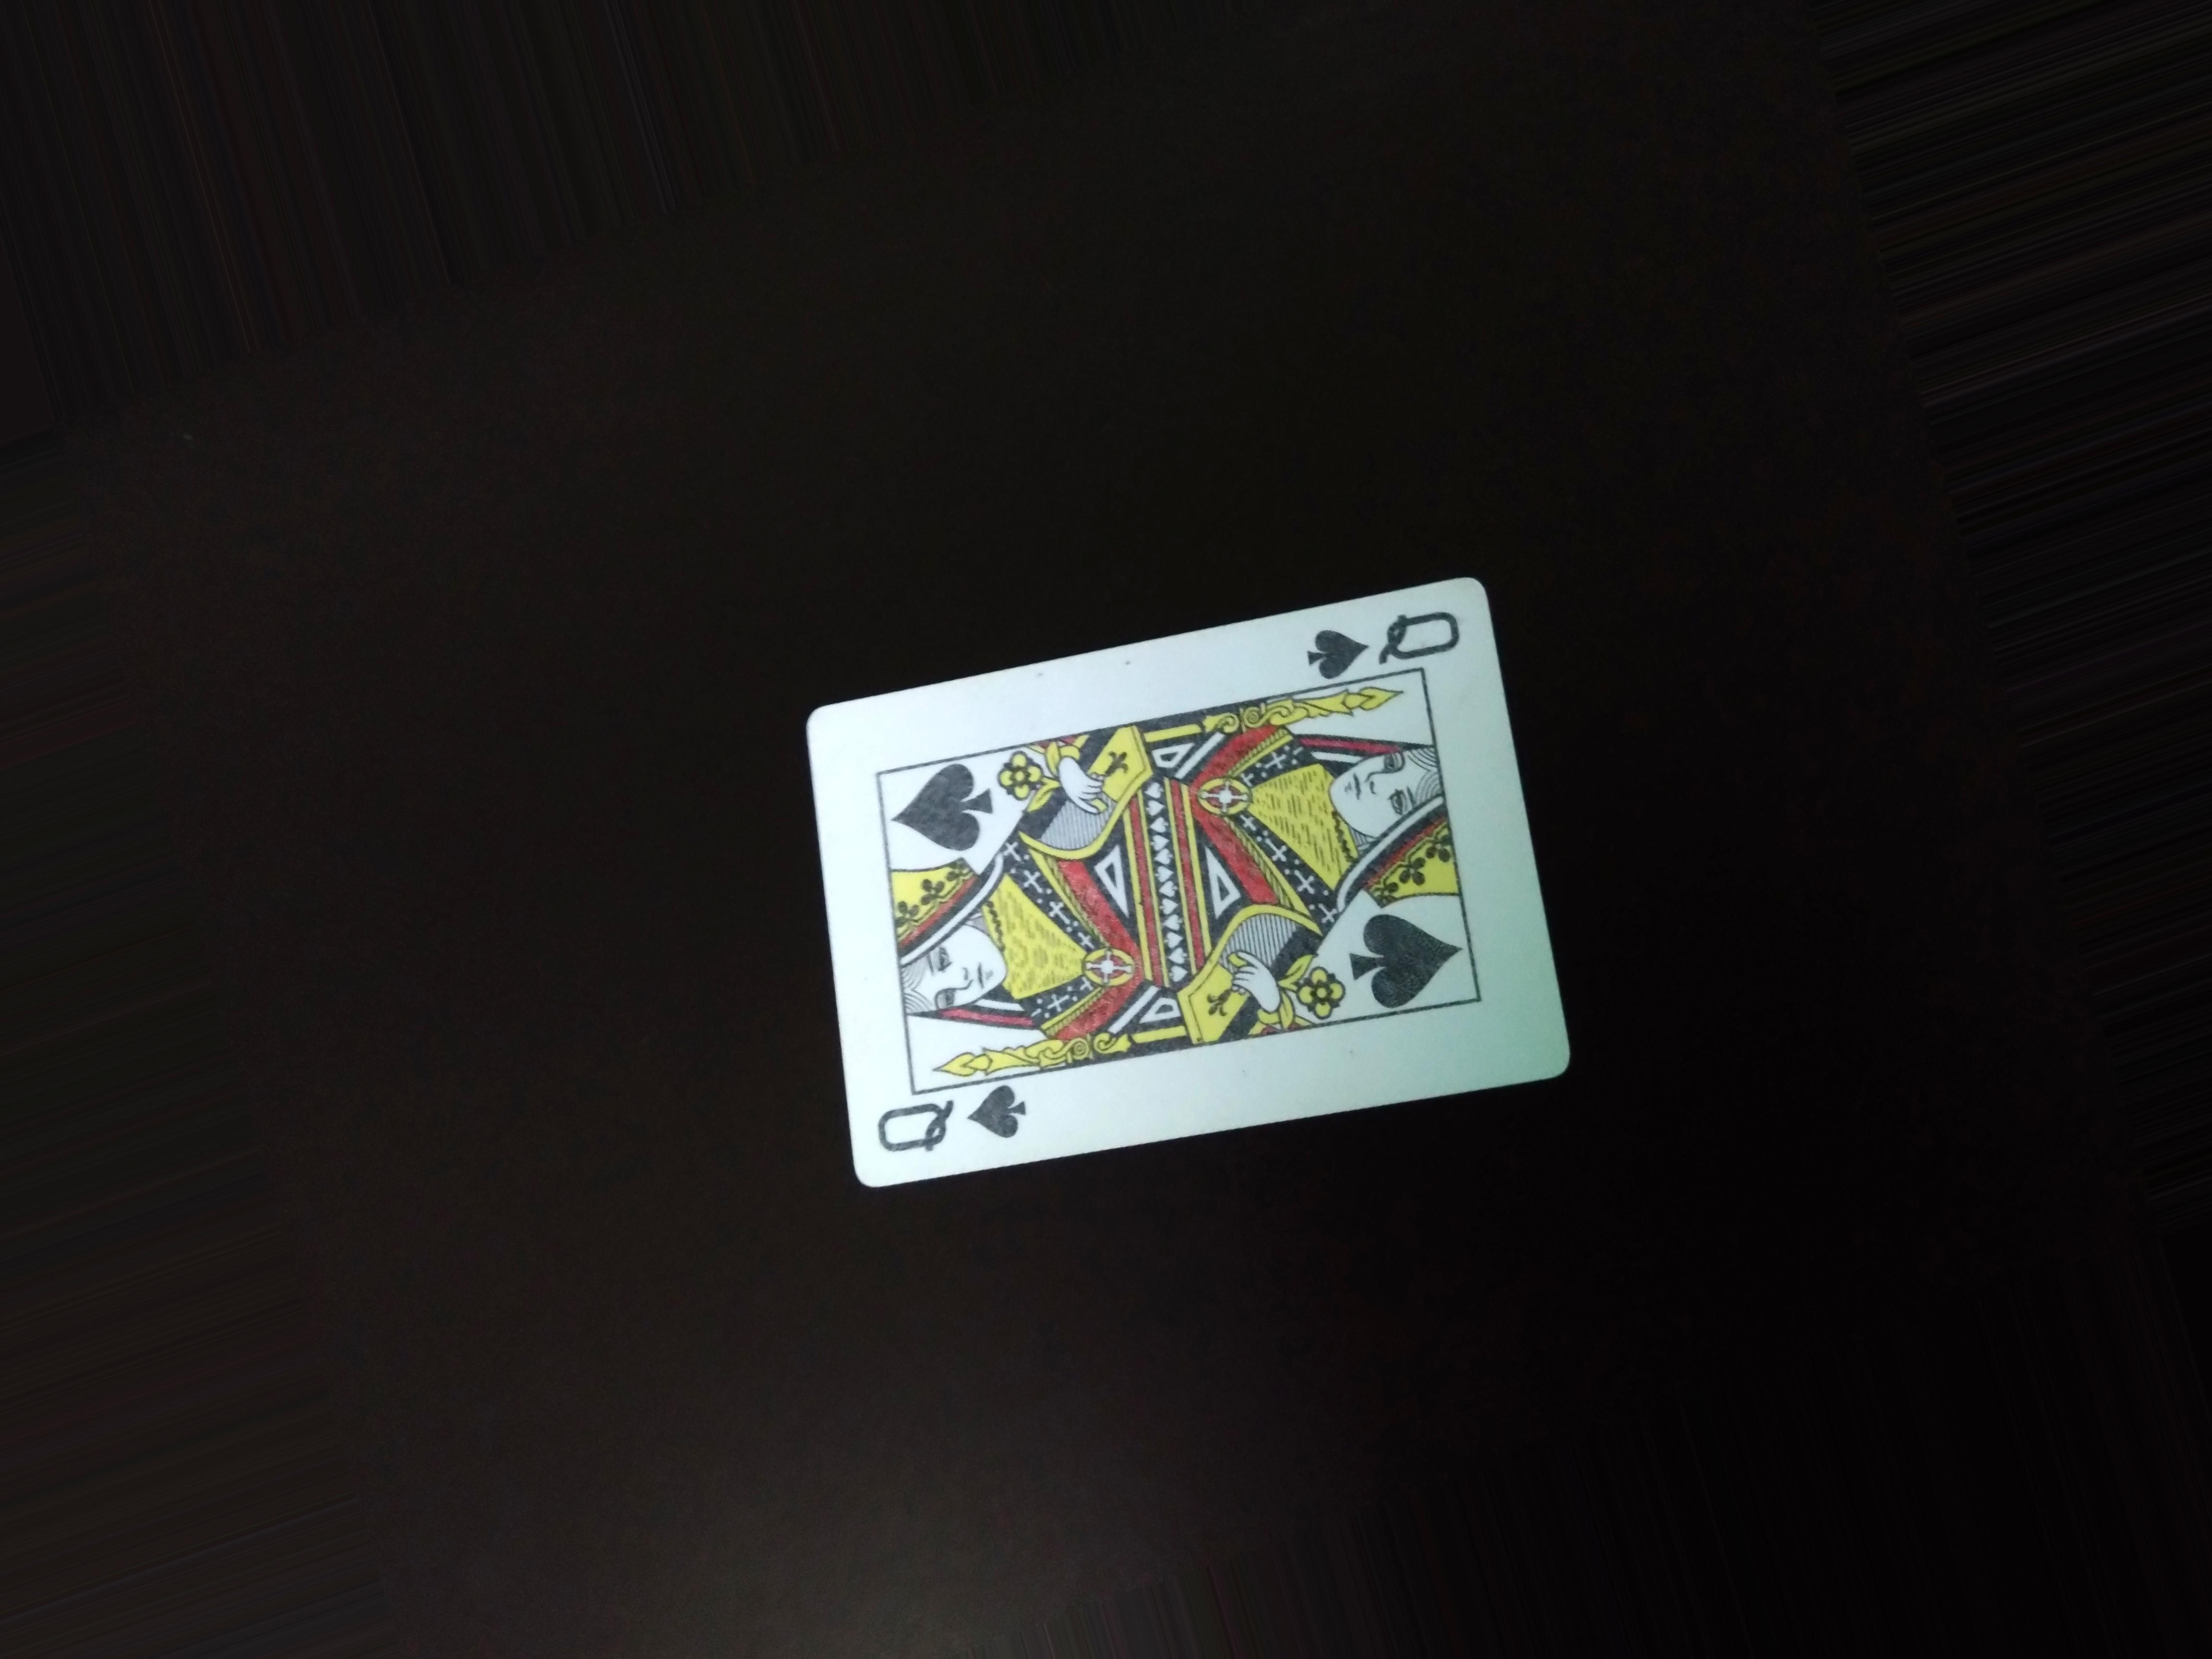QS: (1292, 603, 1472, 678)
